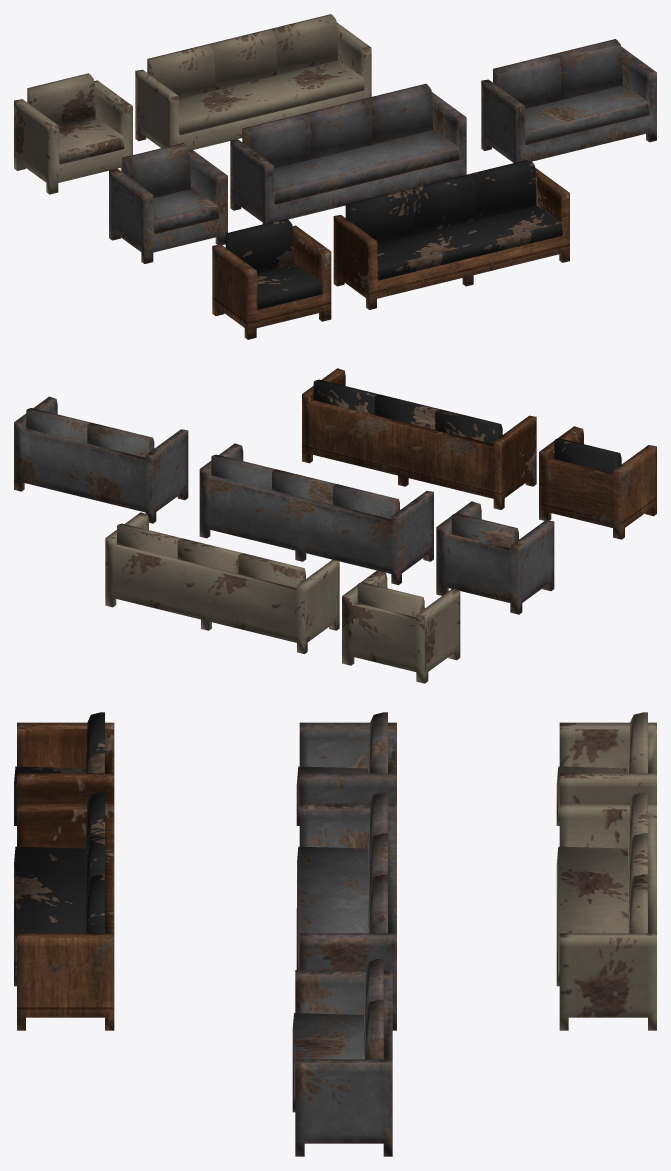
File: old_sofas.glb
The picture shows the model from 3 angles, top to bottom: view 1: azimuth 30°, elevation 25°; view 2: azimuth 150°, elevation 25°; view 3: azimuth 270°, elevation 25°; orthographic projection. The views are drawn at different scales.
Parts seen in each view (by area): view 1: Object_2; view 2: Object_2; view 3: Object_2.
Part boxes in pixels (box(x1,y1,x2,y2)): Object_2: box(14, 14, 656, 339); Object_2: box(14, 368, 656, 683); Object_2: box(14, 712, 656, 1156).
Size of the model in its own units: 168 by 25.33 by 134.
Materials: 1 (1 with a texture image).
